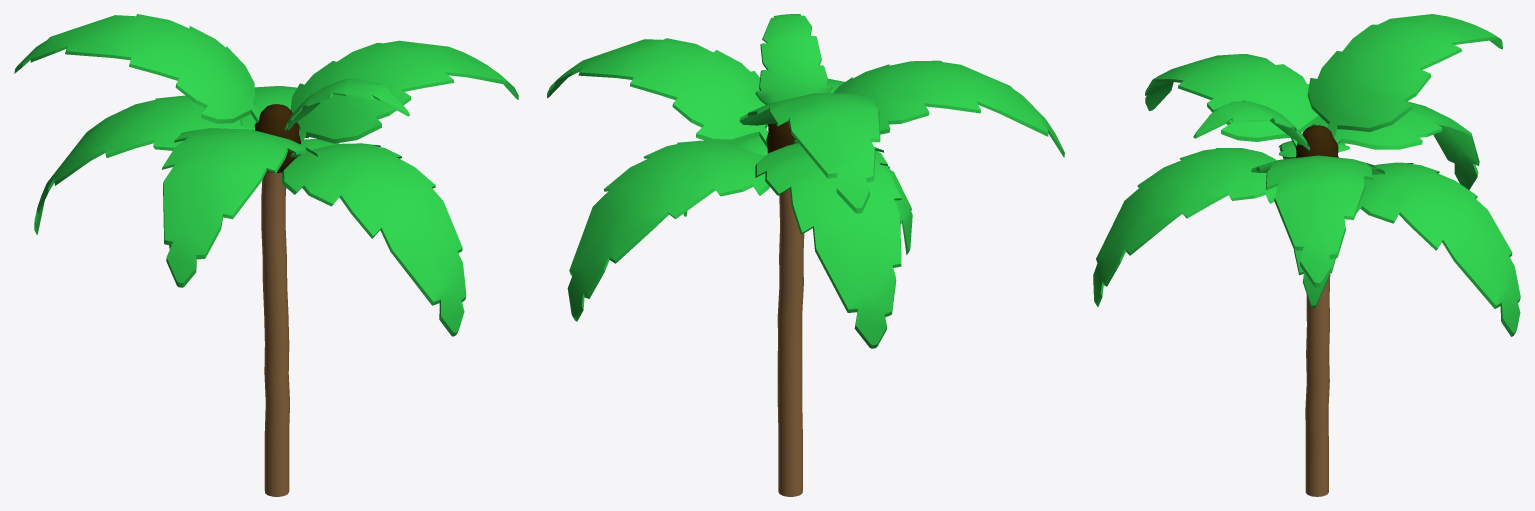
Rendered from straightPalmTemp.fbx.
3 views of the same model, side by side, from view 1: azimuth 30°, elevation 25°; view 2: azimuth 150°, elevation 25°; view 3: azimuth 270°, elevation 25° (orthographic). The views are drawn at different scales.
Visible parts, largest first — view 1: bigPalm_mid.001, trunk_low, smallPalm_mid.003, top; view 2: bigPalm_mid.001, trunk_low, smallPalm_mid.003, top; view 3: bigPalm_mid.001, trunk_low, smallPalm_mid.003, top.
Part boxes in pixels (box(x1,y1,x2,y2)): bigPalm_mid.001: box(14, 14, 518, 336); trunk_low: box(261, 171, 289, 496); smallPalm_mid.003: box(169, 78, 409, 249); top: box(254, 104, 300, 173); bigPalm_mid.001: box(547, 38, 1064, 348); trunk_low: box(777, 188, 804, 496); smallPalm_mid.003: box(683, 14, 912, 254); top: box(766, 123, 795, 153); bigPalm_mid.001: box(1093, 14, 1520, 336); trunk_low: box(1305, 273, 1330, 496); smallPalm_mid.003: box(1193, 100, 1350, 307); top: box(1295, 125, 1338, 157).
Size of the model in its own units: 15.25 by 15.15 by 13.94.
